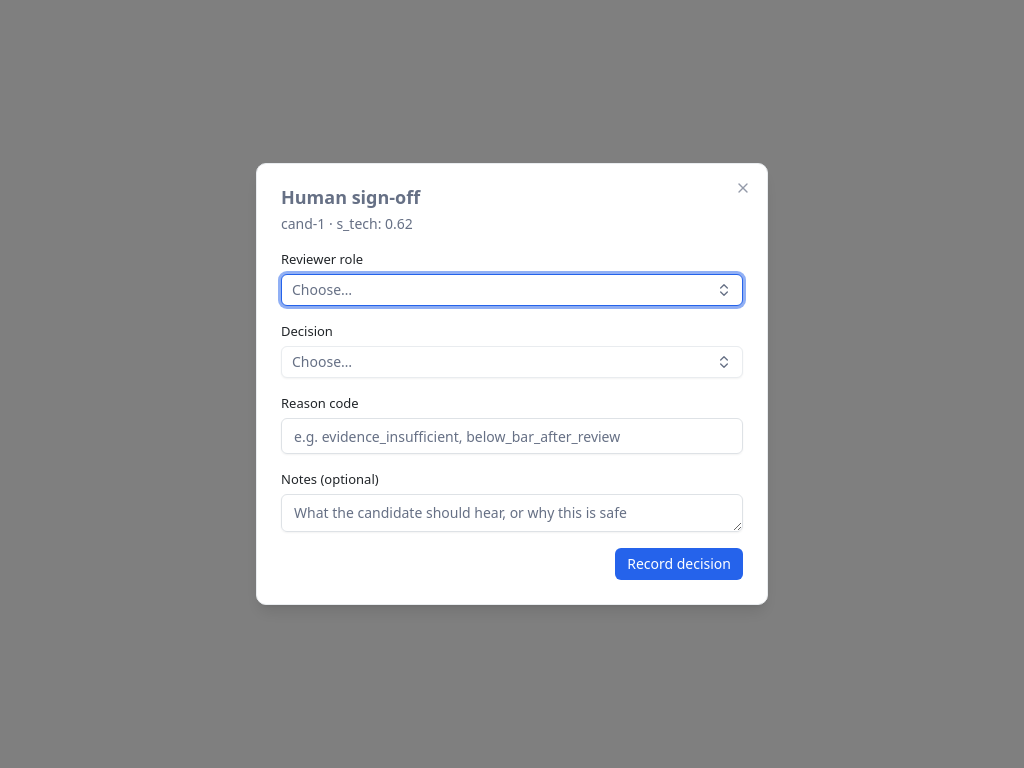
Test: OverrideDialog › offers only roles the API will accept
The width and height of the screenshot is (1024, 768).
Click the button named "Reviewer role" at (322, 290), box [281, 274, 743, 306]
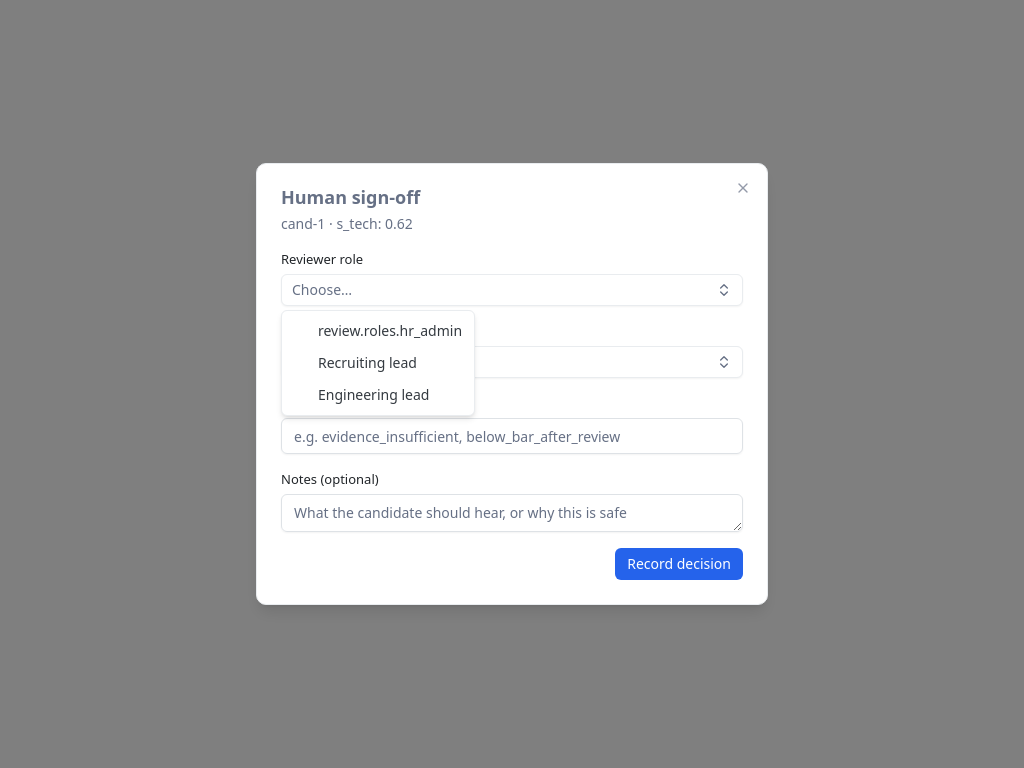
expect the menu item "Recruiting lead" is shown: met, box [318, 353, 417, 372]
expect the menu item "Engineering lead" is shown: met, box [318, 385, 429, 404]
